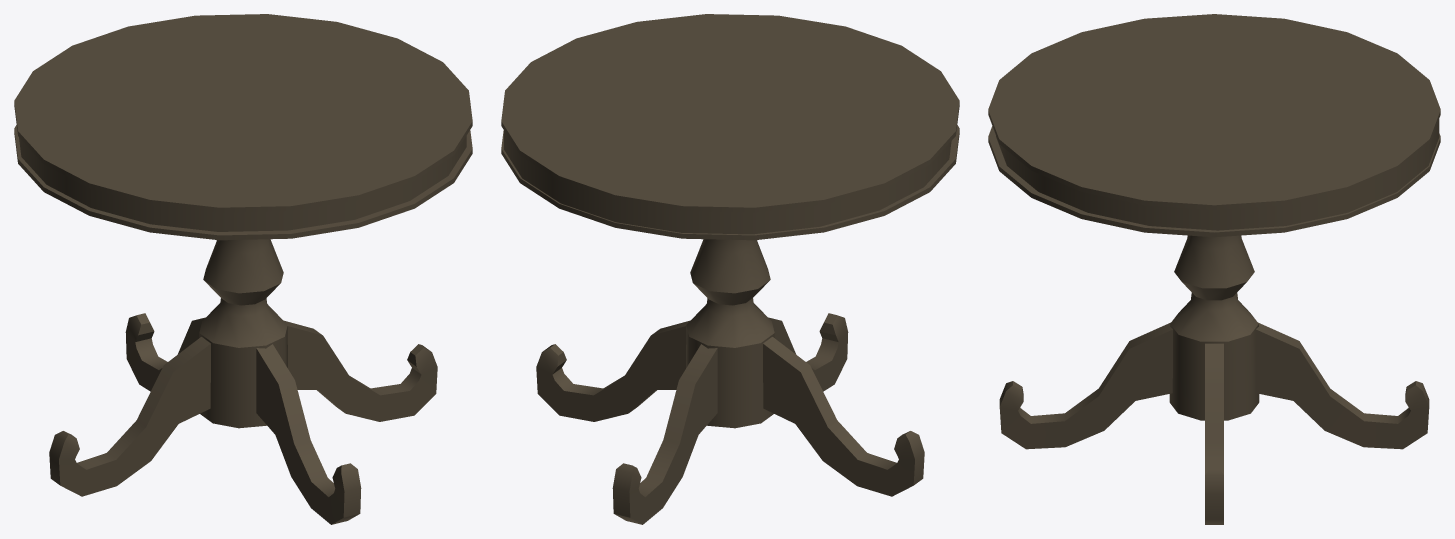
Rendered from furn-table-round-small.glb.
3 renders of one model, left to right at view 1: azimuth 30°, elevation 25°; view 2: azimuth 150°, elevation 25°; view 3: azimuth 270°, elevation 25°, orthographic.
Parts seen in each view (by area): view 1: Table_RoundSmall2; view 2: Table_RoundSmall2; view 3: Table_RoundSmall2.
Part boxes in pixels (x1=…): Table_RoundSmall2: x1=14, y1=14, x2=472, y2=524; Table_RoundSmall2: x1=501, y1=14, x2=959, y2=524; Table_RoundSmall2: x1=988, y1=14, x2=1440, y2=524.
Size of the model in its own units: 0.55 by 0.45 by 0.55.
